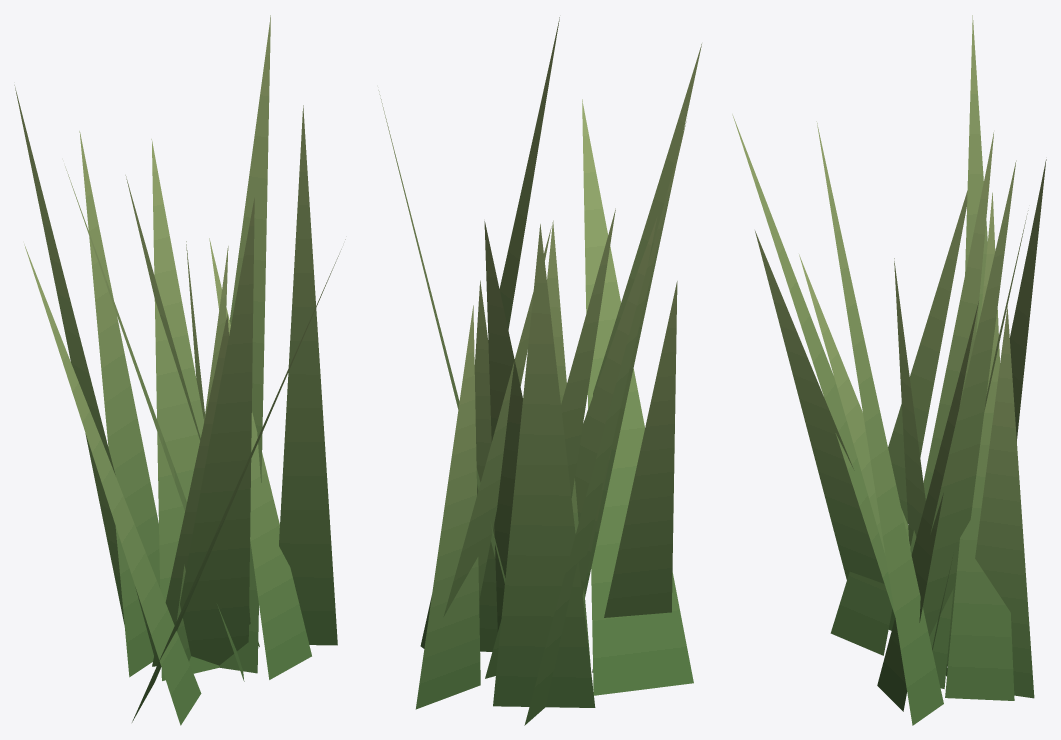
File: grass_tuft_4.glb
3 views of the same model, side by side, from view 1: azimuth 30°, elevation 25°; view 2: azimuth 150°, elevation 25°; view 3: azimuth 270°, elevation 25° (orthographic). The views are drawn at different scales.
Visible parts, largest first — view 1: grass_tuft_5; view 2: grass_tuft_5; view 3: grass_tuft_5.
Boxes of the visible parts, bbox=[...] form: grass_tuft_5: bbox=[14, 15, 345, 725]; grass_tuft_5: bbox=[378, 17, 701, 725]; grass_tuft_5: bbox=[732, 15, 1046, 725].
Bounding box in the file's own units: 0.4249 × 0.8491 × 0.4201.
Materials: 1 (1 with a texture image).
